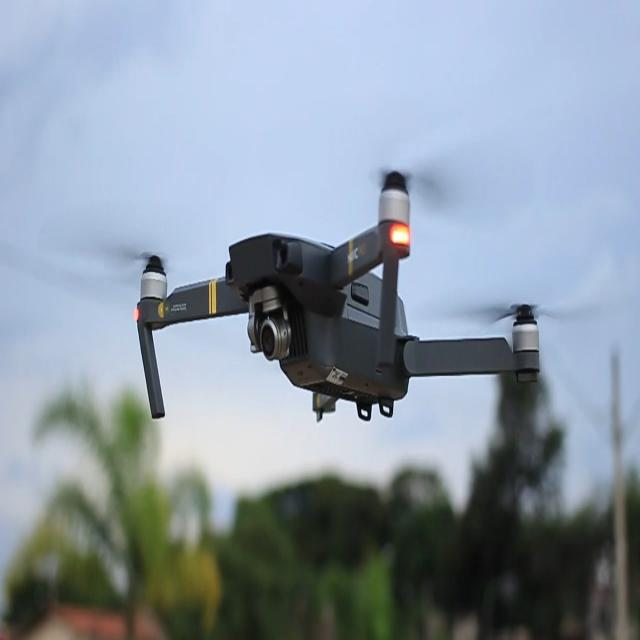Drone: (132, 172, 536, 423)
